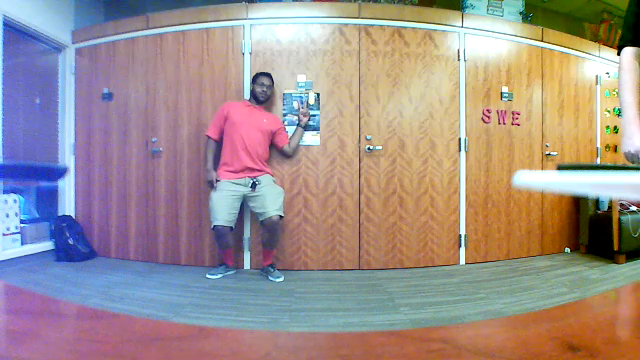peace: (293, 97, 315, 126)
